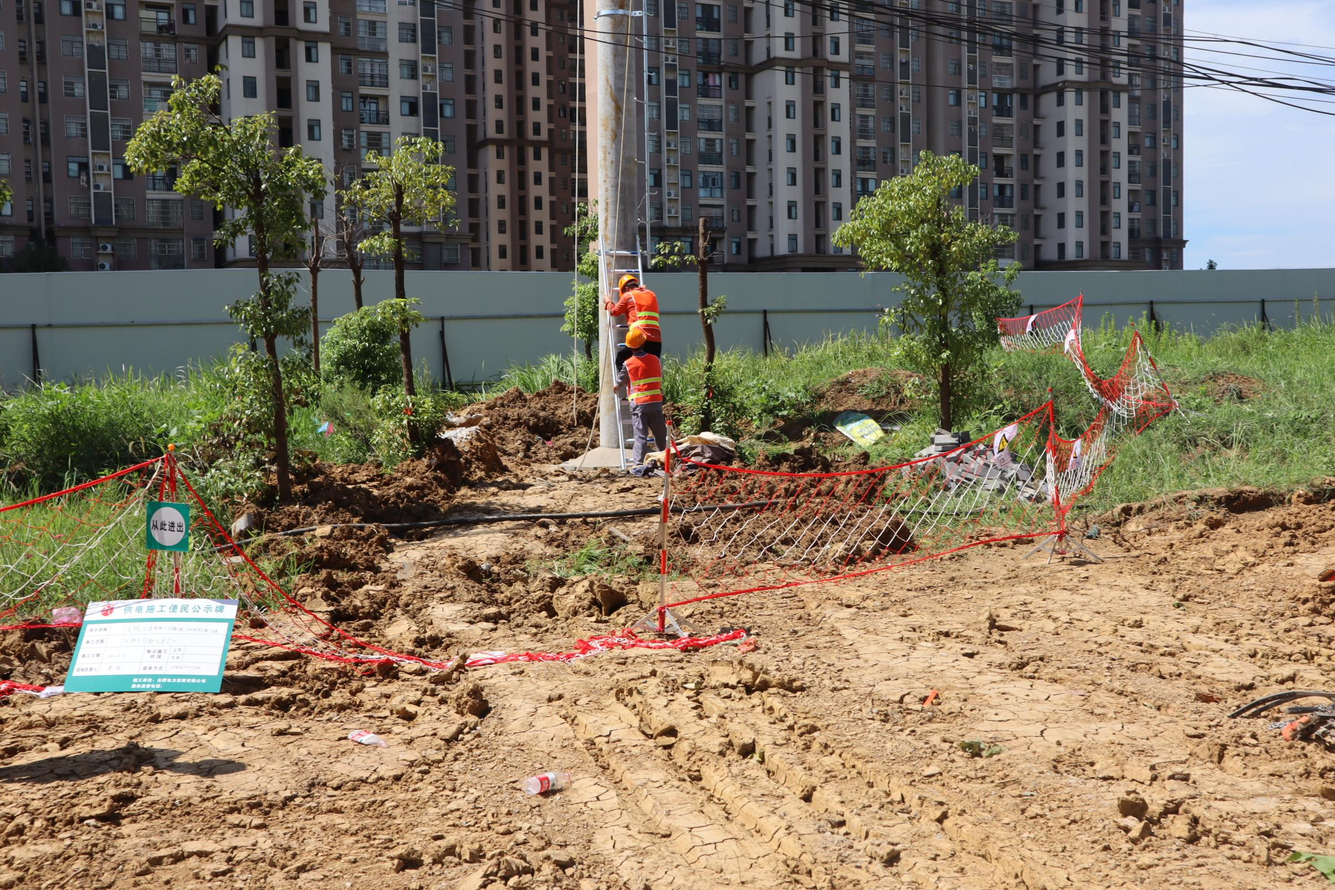未系安全绳的工作人员: (602, 271, 662, 378)
